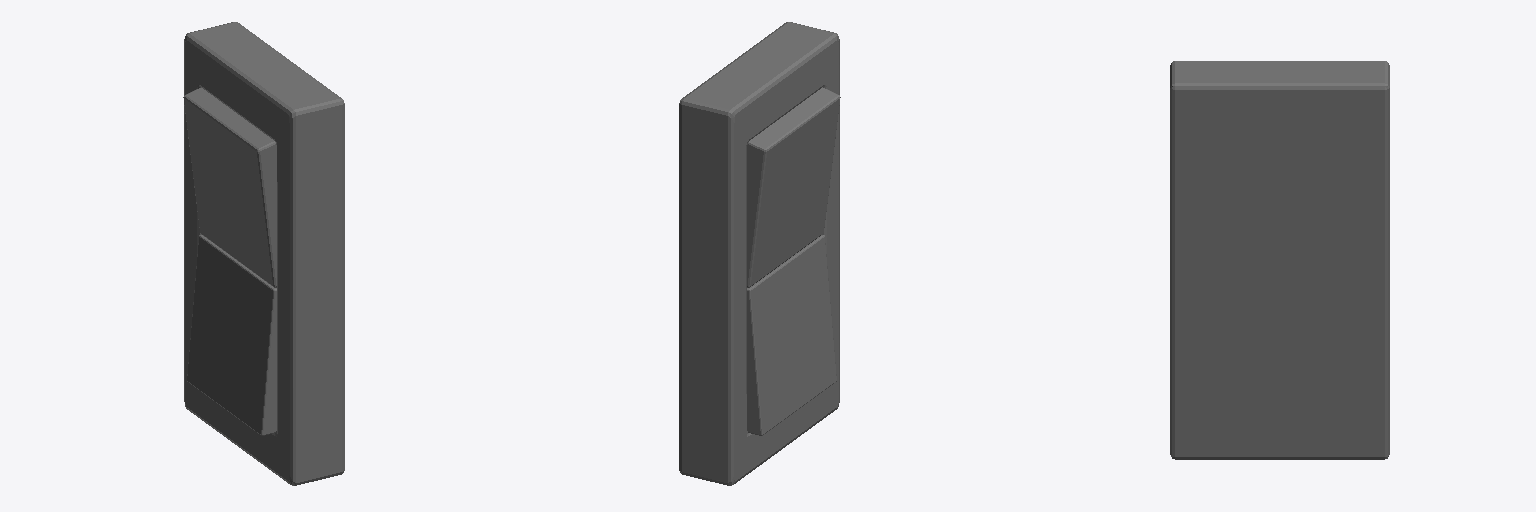
File: Saklar.obj
3 renders of one model, left to right at view 1: azimuth 30°, elevation 25°; view 2: azimuth 150°, elevation 25°; view 3: azimuth 270°, elevation 25°, orthographic.
Parts seen in each view (by area): view 1: pCube29 polySurface29, polySurface34 polySurface31 polySurface30 pCube29, polySurface32; view 2: pCube29 polySurface29, polySurface34 polySurface31 polySurface30 pCube29, polySurface32; view 3: pCube29 polySurface29.
Boxes of the visible parts, x1,y1,x2,y2 form: pCube29 polySurface29: [184, 22, 344, 485]; polySurface34 polySurface31 polySurface30 pCube29: [187, 235, 276, 435]; polySurface32: [183, 87, 276, 287]; pCube29 polySurface29: [679, 22, 839, 485]; polySurface34 polySurface31 polySurface30 pCube29: [747, 235, 836, 435]; polySurface32: [747, 87, 840, 287]; pCube29 polySurface29: [1170, 61, 1389, 459].
Size of the model in its own units: 0.1632 by 0.82 by 0.4328.